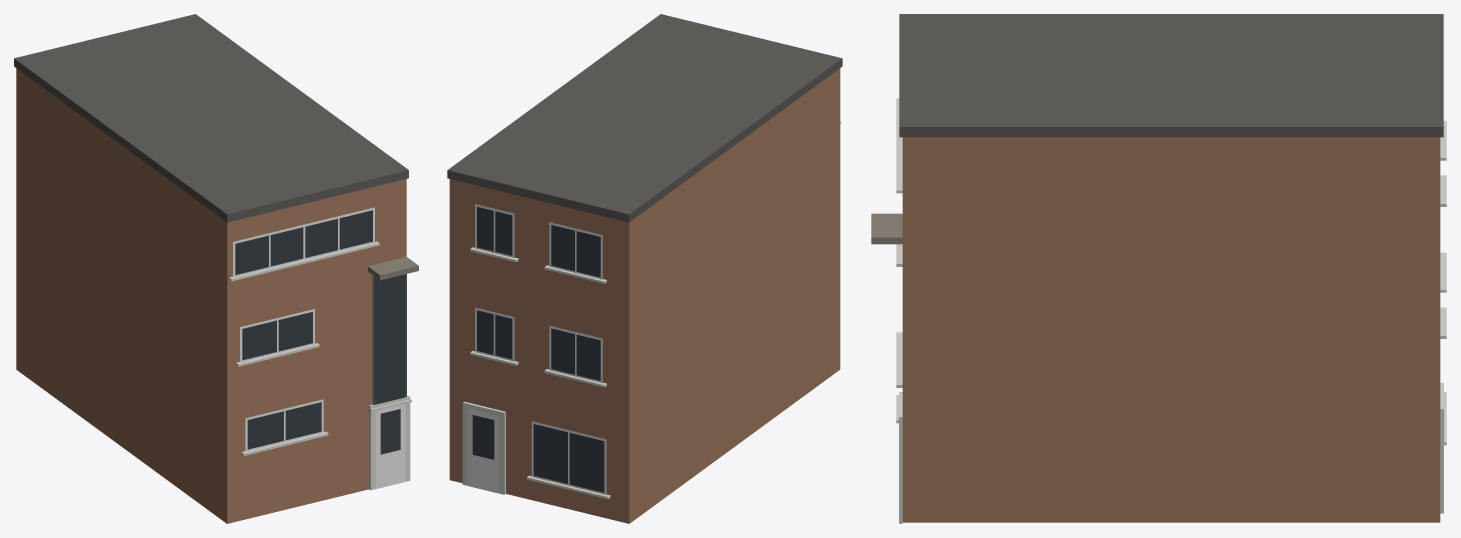
Rendered from nw-aw-pracana__red__3__flat__long__solid.glb.
3 renders of one model, left to right at view 1: azimuth 30°, elevation 25°; view 2: azimuth 150°, elevation 25°; view 3: azimuth 270°, elevation 25°, orthographic. The views are drawn at different scales.
Visible parts, largest first — view 1: nw-aw-pracana__red__3__flat__long__solid; view 2: nw-aw-pracana__red__3__flat__long__solid; view 3: nw-aw-pracana__red__3__flat__long__solid.
Part boxes in pixels (<box>): nw-aw-pracana__red__3__flat__long__solid: <box>14,14,418,523</box>; nw-aw-pracana__red__3__flat__long__solid: <box>447,14,842,523</box>; nw-aw-pracana__red__3__flat__long__solid: <box>871,14,1446,523</box>.
Size of the model in its own units: 5.19 by 8.4 by 11.06.
